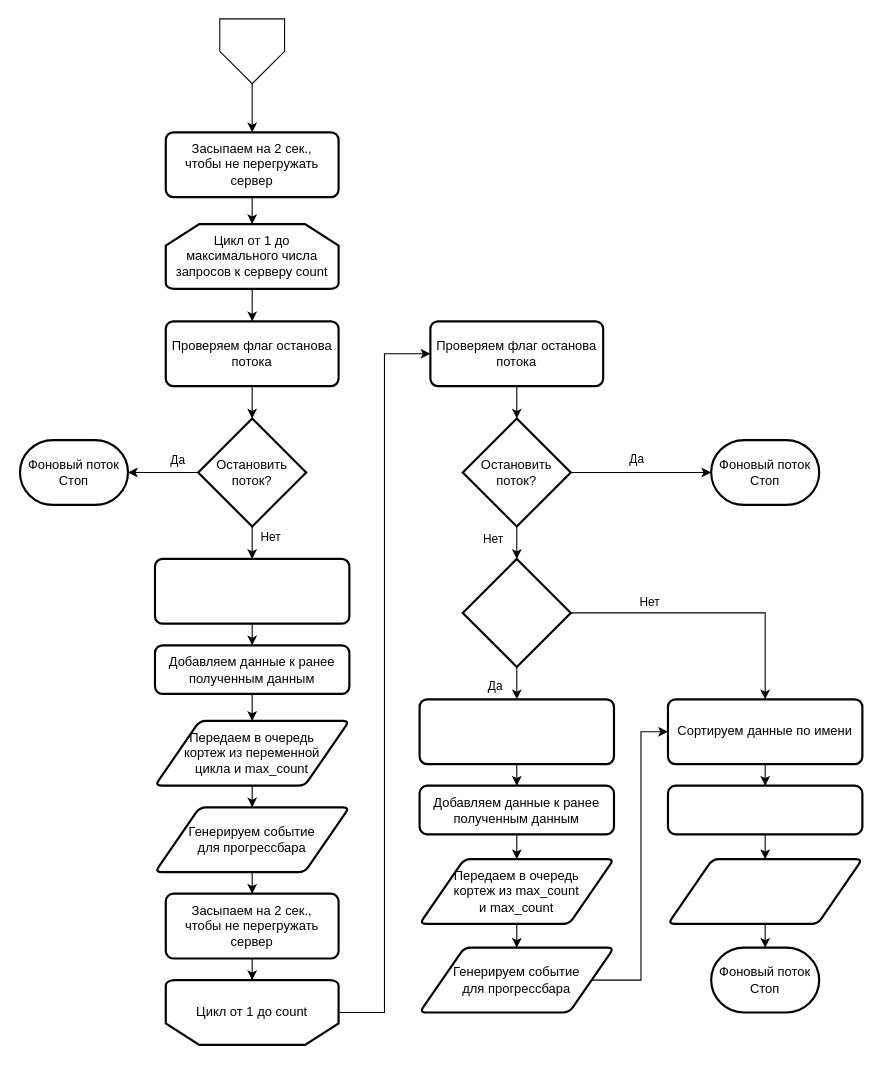
This 881x1065 diagram has some shape labels left out. The centre of each missing label's shape, as x and y in pixels:
"Генерируем событие для закрытия окна" belongs at point 764,891.
"Делаем запрос к серверу и получаем данные для остатка монет" belongs at point 516,731.
"Делаем запрос к серверу и получаем данные для очередной сотни монет" belongs at point 251,590.
"Есть остаточное число монет rest?" belongs at point 516,612.
"Сохраняем данные в файл" belongs at point 764,809.
"Схема 3, стр. 1" belongs at point 252,51.
